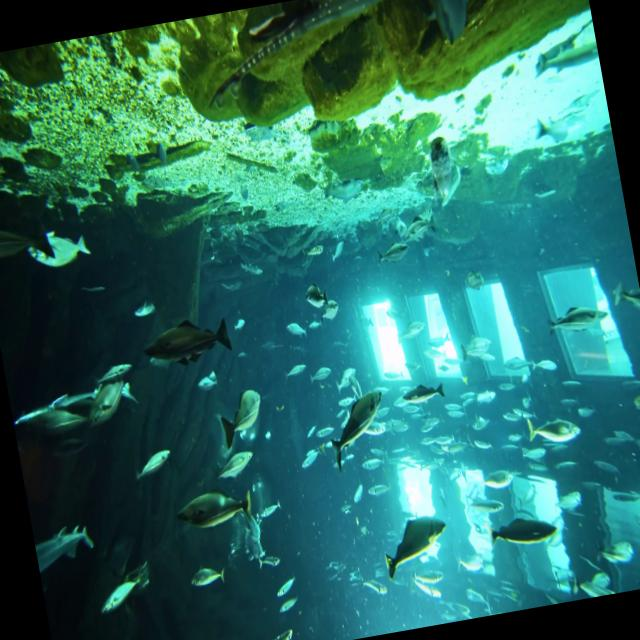fish: (316, 376, 396, 472), (136, 304, 240, 377), (372, 501, 458, 582), (168, 478, 258, 545), (11, 396, 94, 463), (31, 514, 102, 587), (512, 398, 588, 466), (483, 502, 566, 564), (206, 382, 272, 459), (94, 558, 162, 624), (0, 200, 54, 275), (537, 289, 611, 341), (83, 372, 137, 438), (26, 228, 90, 280), (294, 268, 336, 326), (401, 372, 449, 414), (369, 233, 416, 274), (190, 558, 232, 596)
